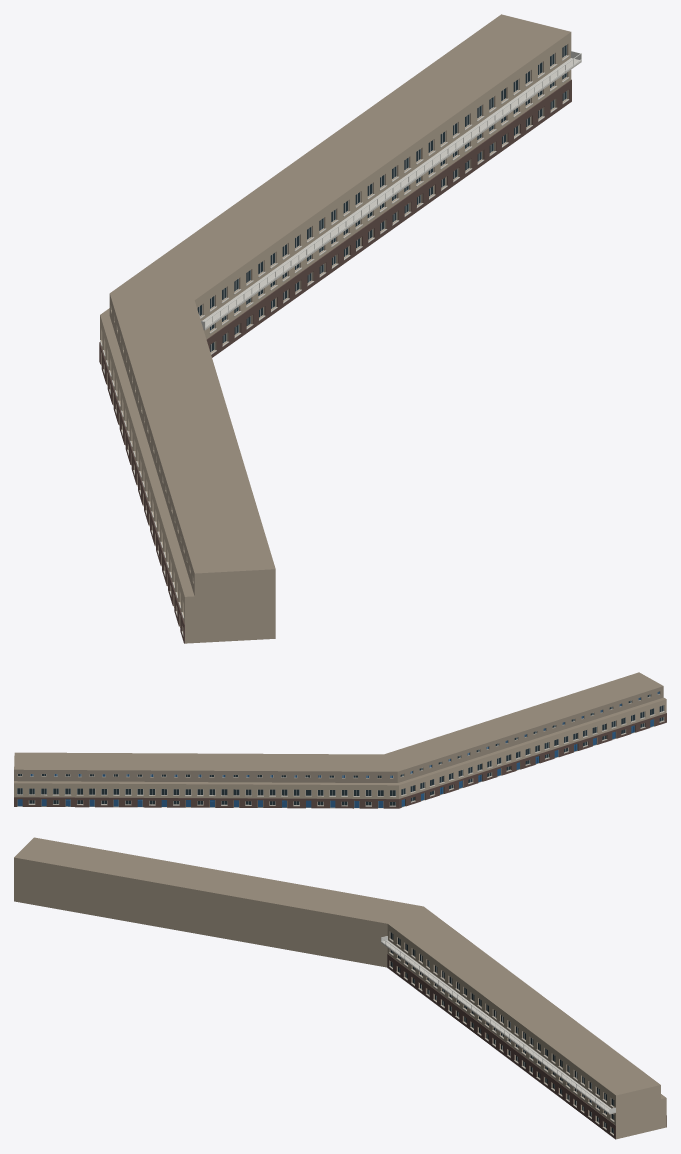
File: recipe-large-laanweg-92-128179.glb
3 views of the same model, one above another, from view 1: azimuth 30°, elevation 25°; view 2: azimuth 150°, elevation 25°; view 3: azimuth 270°, elevation 25° (orthographic). The views are drawn at different scales.
Visible parts, largest first — view 1: laanweg-92-128179; view 2: laanweg-92-128179; view 3: laanweg-92-128179.
Boxes of the visible parts, <box> form: laanweg-92-128179: <box>99,14,581,643</box>; laanweg-92-128179: <box>14,672,666,808</box>; laanweg-92-128179: <box>14,837,666,1139</box>.
Bounding box in the file's own units: 110 × 8.57 × 115.
